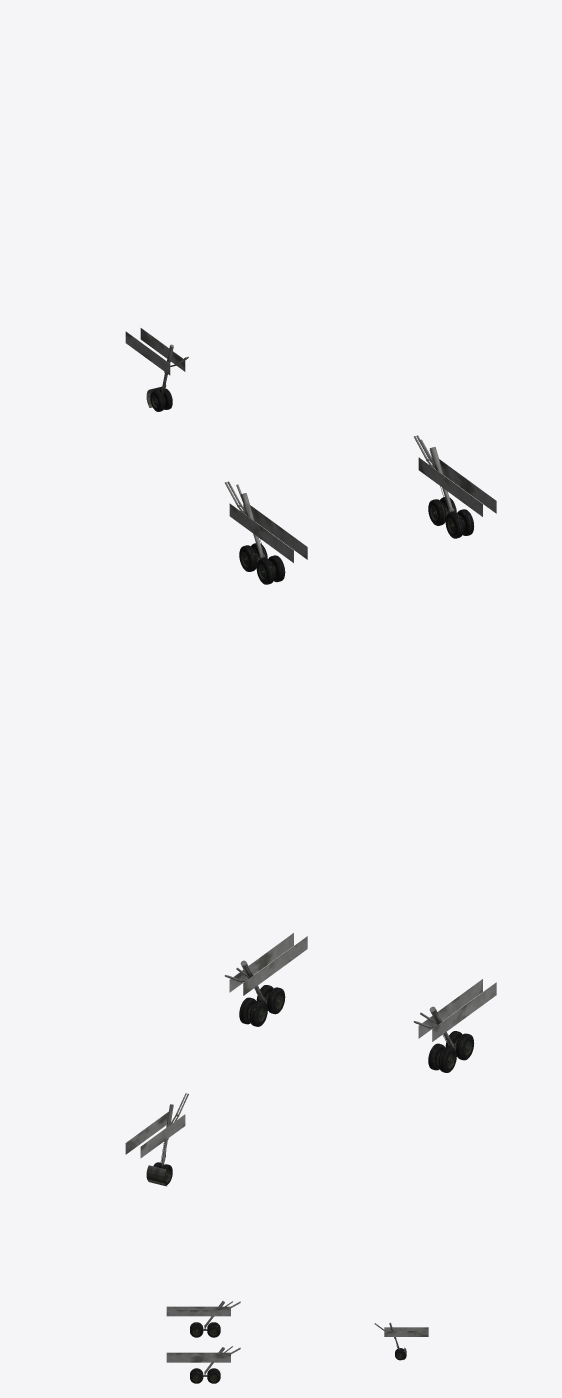
Rendered from e_tu22_gear.glb.
3 renders of one model, top to bottom at view 1: azimuth 30°, elevation 25°; view 2: azimuth 150°, elevation 25°; view 3: azimuth 270°, elevation 25°, orthographic. The views are drawn at different scales.
Parts seen in each view (by area): view 1: body|TU_paint; view 2: body|TU_paint; view 3: body|TU_paint.
Part boxes in pixels (bbox=[...]): body|TU_paint: bbox=[125, 328, 496, 584]; body|TU_paint: bbox=[125, 933, 496, 1186]; body|TU_paint: bbox=[166, 1301, 428, 1383].
Bounding box in the file's own units: 9.31 × 12.37 × 41.6.
1 material, 1 textured.
